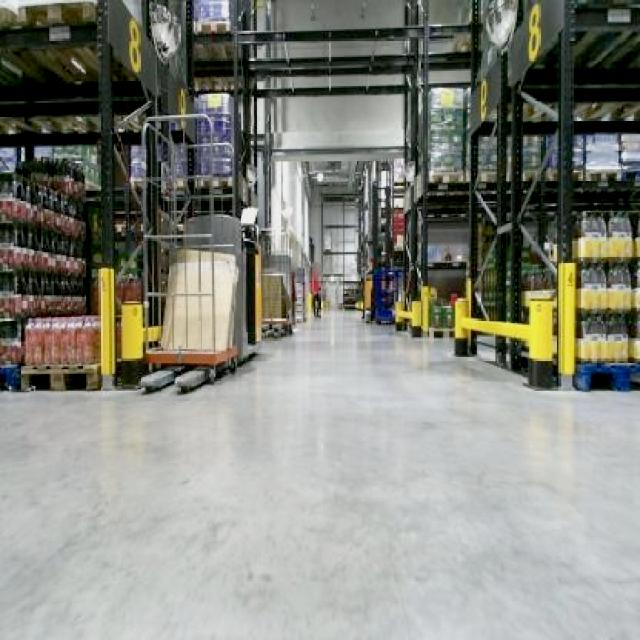floor: (0, 311, 637, 637)
pallets: (0, 158, 95, 388), (146, 214, 257, 365), (572, 211, 637, 388), (18, 315, 95, 386)
